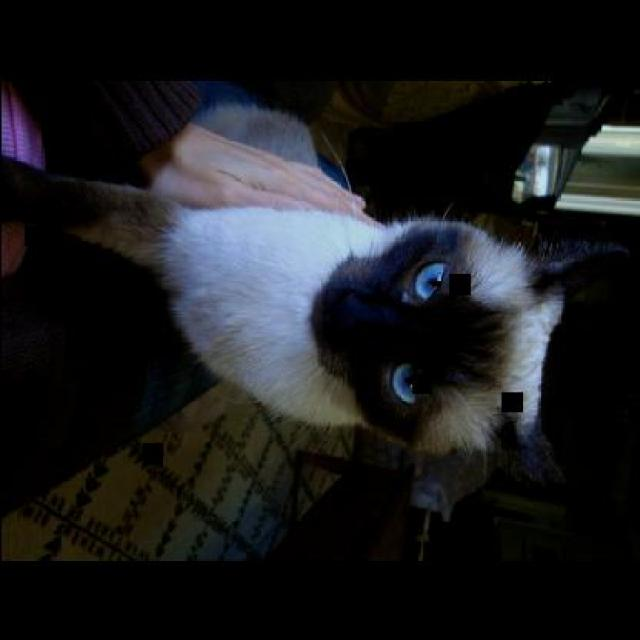unauthorized: (0, 100, 631, 485)
